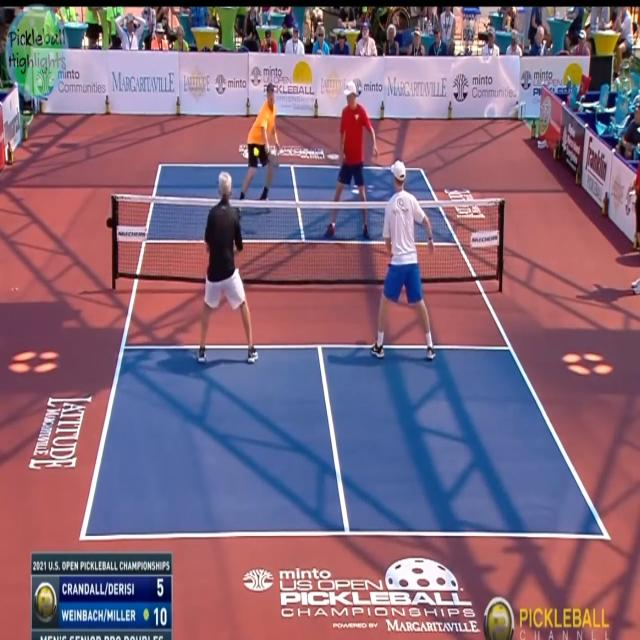Court: (83, 164, 606, 539)
ball: (250, 139, 263, 167)
